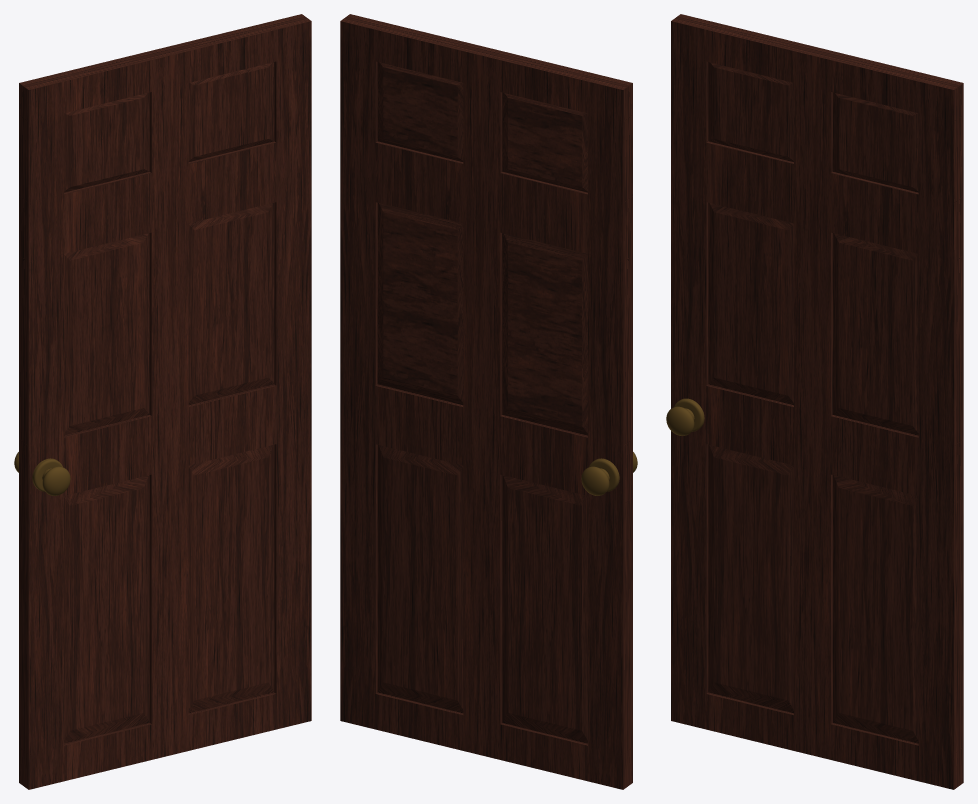
Rendered from Door.gltf.
3 views of the same model, side by side, from view 1: azimuth 30°, elevation 25°; view 2: azimuth 150°, elevation 25°; view 3: azimuth 330°, elevation 25° (orthographic).
Visible parts, largest first — view 1: Door.001; view 2: Door.001; view 3: Door.001.
Boxes of the visible parts, x1,y1,x2,y2 form: Door.001: (14, 14, 311, 789); Door.001: (340, 14, 637, 789); Door.001: (666, 14, 963, 789).
Bounding box in the file's own units: 0.838 × 1.98 × 0.185.
2 materials, 1 textured.
